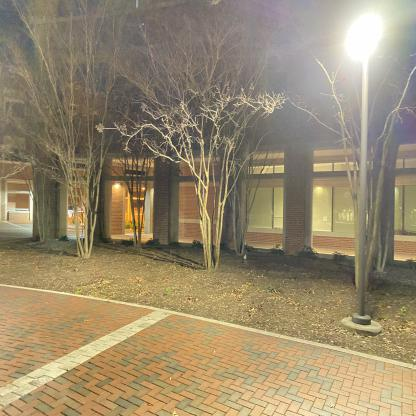eb2: (0, 0, 412, 257)
